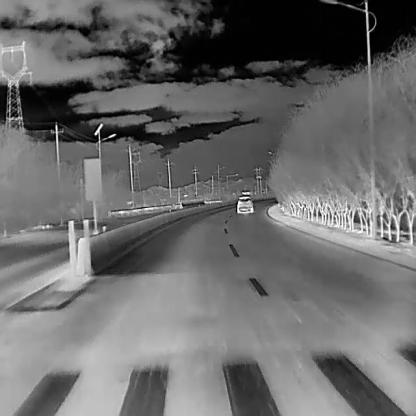car: (236, 194, 252, 213)
